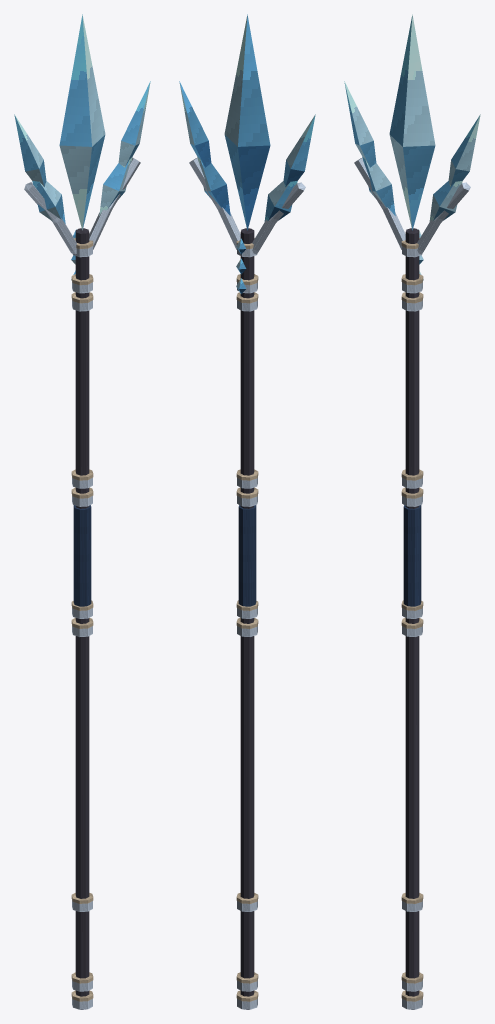
The model's file is amelia_staff.gltf.
3 views of the same model, side by side, from view 1: azimuth 30°, elevation 25°; view 2: azimuth 150°, elevation 25°; view 3: azimuth 330°, elevation 25° (orthographic).
Visible parts, largest first — view 1: staff_lower_mesh, crystal_center_mesh, staff_grip_mesh, crystal_mount_mesh, crystal_right_02_mesh, crystal_left_02_mesh, crystal_right_01_mesh, crystal_left_01_mesh; view 2: staff_lower_mesh, crystal_center_mesh, staff_grip_mesh, crystal_mount_mesh, crystal_right_02_mesh, crystal_left_02_mesh, crystal_right_01_mesh, crystal_left_01_mesh; view 3: staff_lower_mesh, crystal_center_mesh, staff_grip_mesh, crystal_mount_mesh, crystal_left_02_mesh, crystal_right_02_mesh, crystal_left_01_mesh, crystal_right_01_mesh.
Part boxes in pixels (<box>): staff_lower_mesh: <box>71,228,93,1009</box>; crystal_center_mesh: <box>59,14,105,230</box>; staff_grip_mesh: <box>73,505,91,606</box>; crystal_mount_mesh: <box>24,157,140,280</box>; crystal_right_02_mesh: <box>118,81,150,167</box>; crystal_left_02_mesh: <box>14,114,46,186</box>; crystal_right_01_mesh: <box>99,157,132,215</box>; crystal_left_01_mesh: <box>32,181,65,223</box>; staff_lower_mesh: <box>236,228,258,1009</box>; crystal_center_mesh: <box>224,14,270,230</box>; staff_grip_mesh: <box>238,505,256,606</box>; crystal_mount_mesh: <box>189,157,305,294</box>; crystal_right_02_mesh: <box>179,81,211,167</box>; crystal_left_02_mesh: <box>283,114,315,186</box>; crystal_right_01_mesh: <box>197,157,230,215</box>; crystal_left_01_mesh: <box>264,181,297,221</box>; staff_lower_mesh: <box>401,228,423,1009</box>; crystal_center_mesh: <box>389,14,435,230</box>; staff_grip_mesh: <box>403,505,421,606</box>; crystal_mount_mesh: <box>354,157,470,280</box>; crystal_left_02_mesh: <box>344,81,376,167</box>; crystal_right_02_mesh: <box>448,114,480,186</box>; crystal_left_01_mesh: <box>362,157,395,215</box>; crystal_right_01_mesh: <box>429,181,462,221</box>.
Size of the model in its own units: 0.2687 by 1.87 by 0.0656.
Materials: 1 (1 with a texture image).
